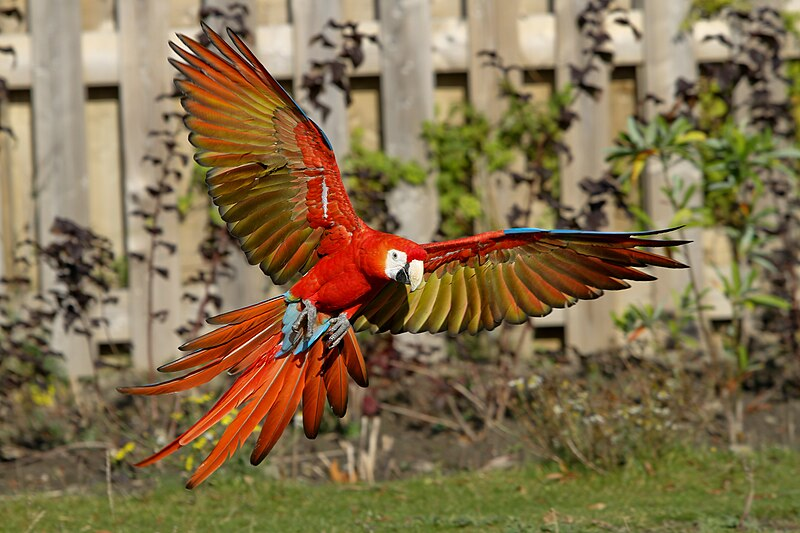Lapa: (129, 12, 699, 476)
